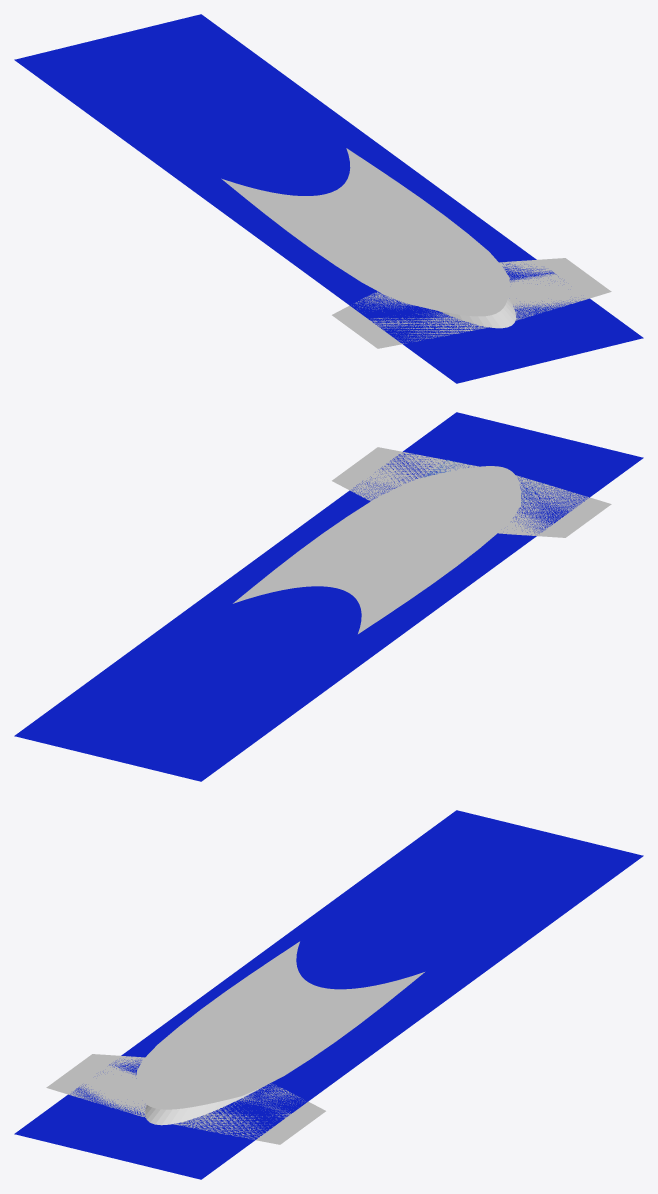
The model's file is pref_fx_Cramorant_spell02B_bullet_01_lv2.fbx.
3 renders of one model, top to bottom at view 1: azimuth 30°, elevation 25°; view 2: azimuth 150°, elevation 25°; view 3: azimuth 330°, elevation 25°, orthographic.
Visible parts, largest first — view 1: Glow_an_xingneng, UV_add, UV_add_01; view 2: Glow_an_xingneng, UV_add, UV_add_01; view 3: Glow_an_xingneng, UV_add, UV_add_01.
Boxes of the visible parts, x1=… form: Glow_an_xingneng: x1=14, y1=14, x2=643, y2=383; UV_add: x1=221, y1=148, x2=509, y2=316; UV_add_01: x1=332, y1=258, x2=611, y2=348; Glow_an_xingneng: x1=14, y1=412, x2=643, y2=781; UV_add: x1=233, y1=466, x2=520, y2=633; UV_add_01: x1=332, y1=447, x2=611, y2=537; Glow_an_xingneng: x1=14, y1=810, x2=643, y2=1179; UV_add: x1=137, y1=941, x2=424, y2=1109; UV_add_01: x1=46, y1=1054, x2=325, y2=1144.
Size of the model in its own units: 1.61 by 0.1068 by 5.26.
